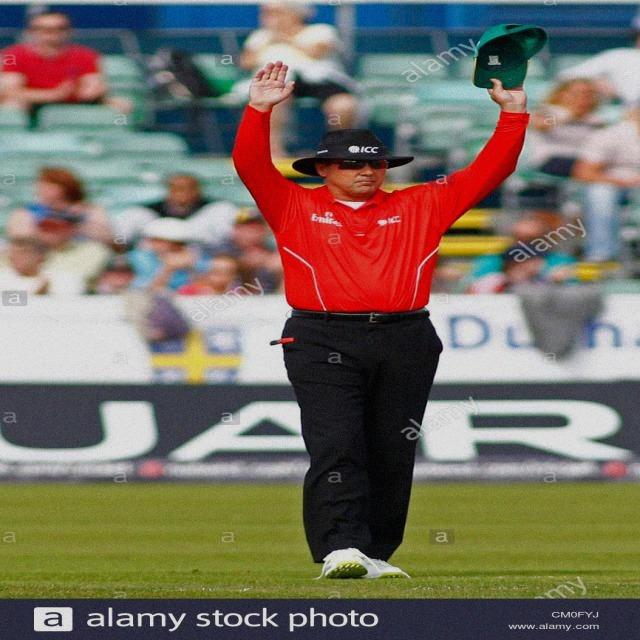Six: (225, 19, 557, 587)
